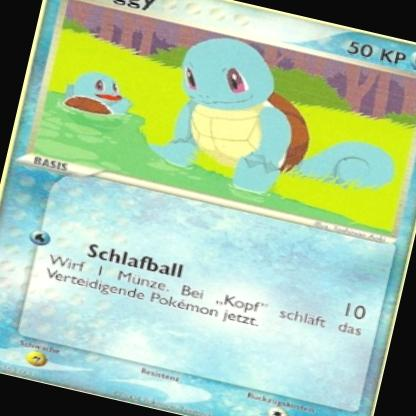Squirtle: (135, 23, 402, 225)
